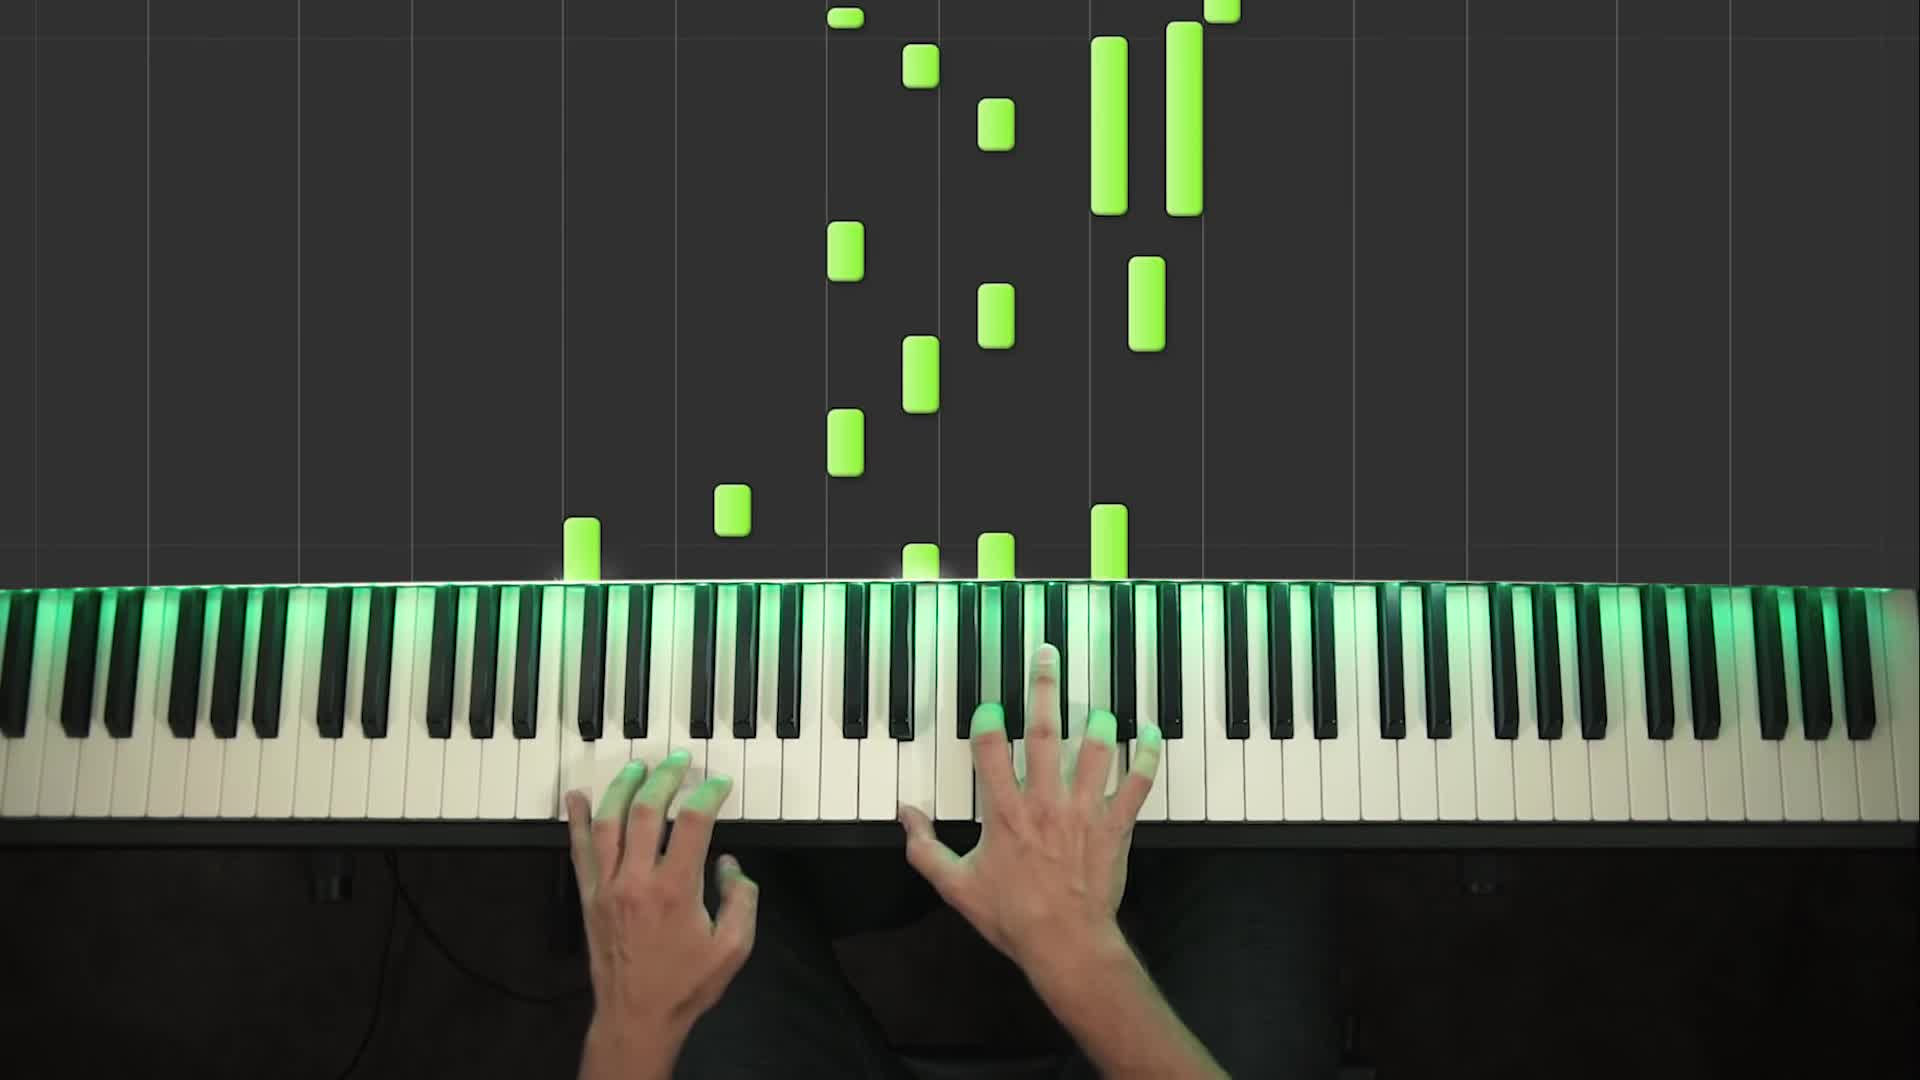left: (554, 740, 771, 1027)
right: (889, 637, 1170, 967)
